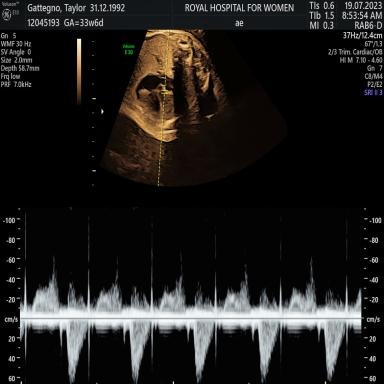Ultrasound-Waves: (28, 209, 357, 384)
